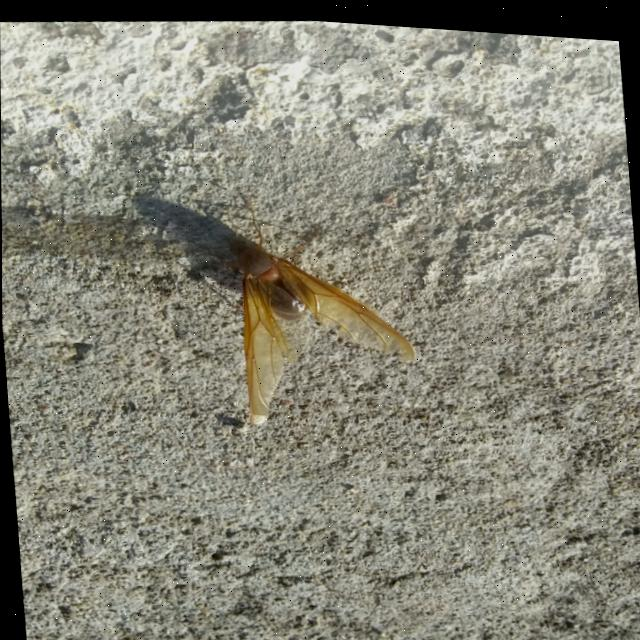Alive-Male-Alate: (163, 176, 420, 435)
